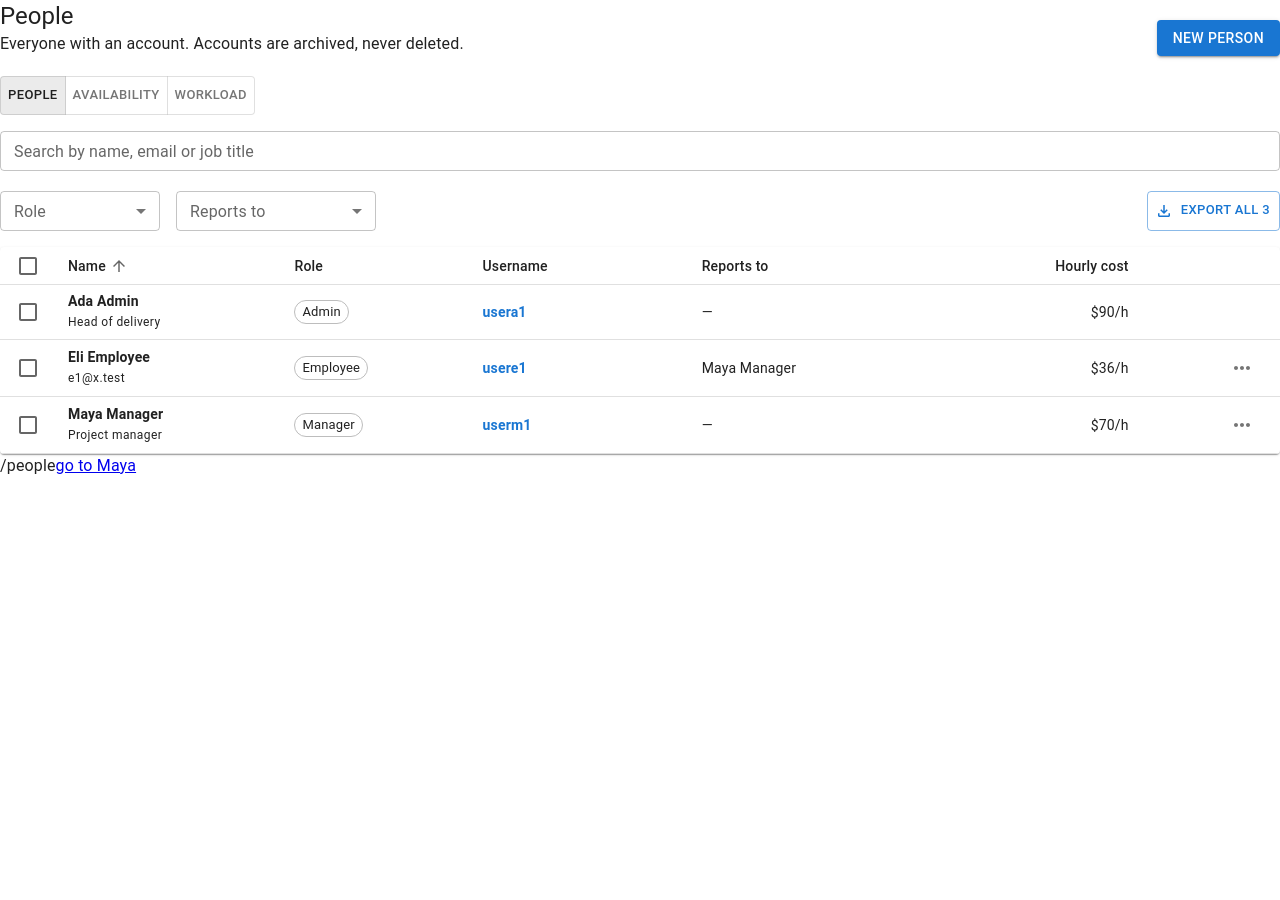
Test: PeoplePage as an admin › New person › needs a name and an email, and an employee also needs a manager
Expected: the text "Eli Employee" is shown, [68, 349, 150, 365]
Click the button "New person". click: (1218, 38)
box: [1157, 20, 1279, 56]
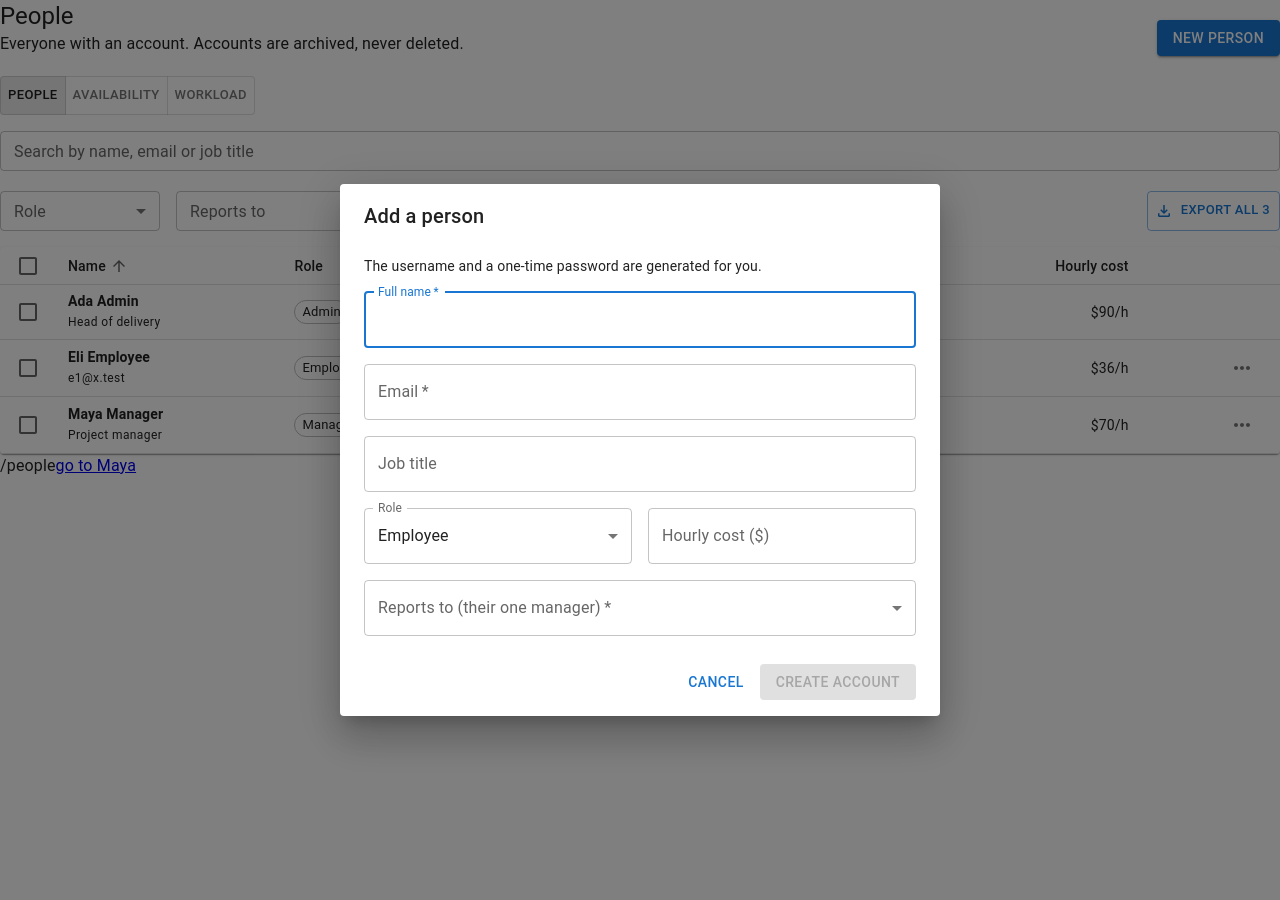
Expected: the button "Create account" is disabled, [760, 664, 916, 700]
Type "Nia New" into the field labelled "Full name *". click: (640, 320)
box: [364, 292, 916, 348]
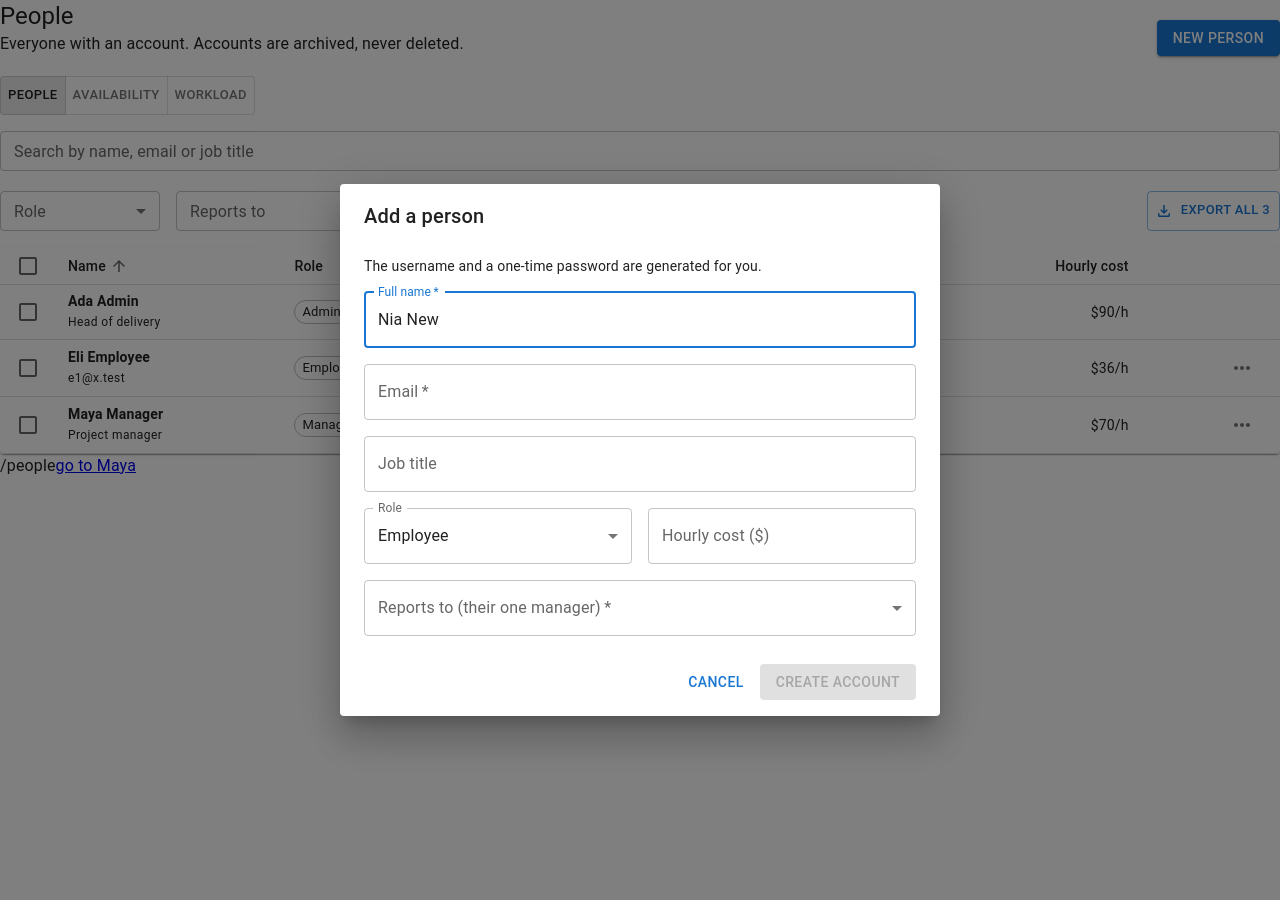
Expected: the button "Create account" is disabled, [760, 664, 916, 700]
Type "nia@x.test" into the field labelled "Email *". click: (640, 392)
box: [364, 364, 916, 420]
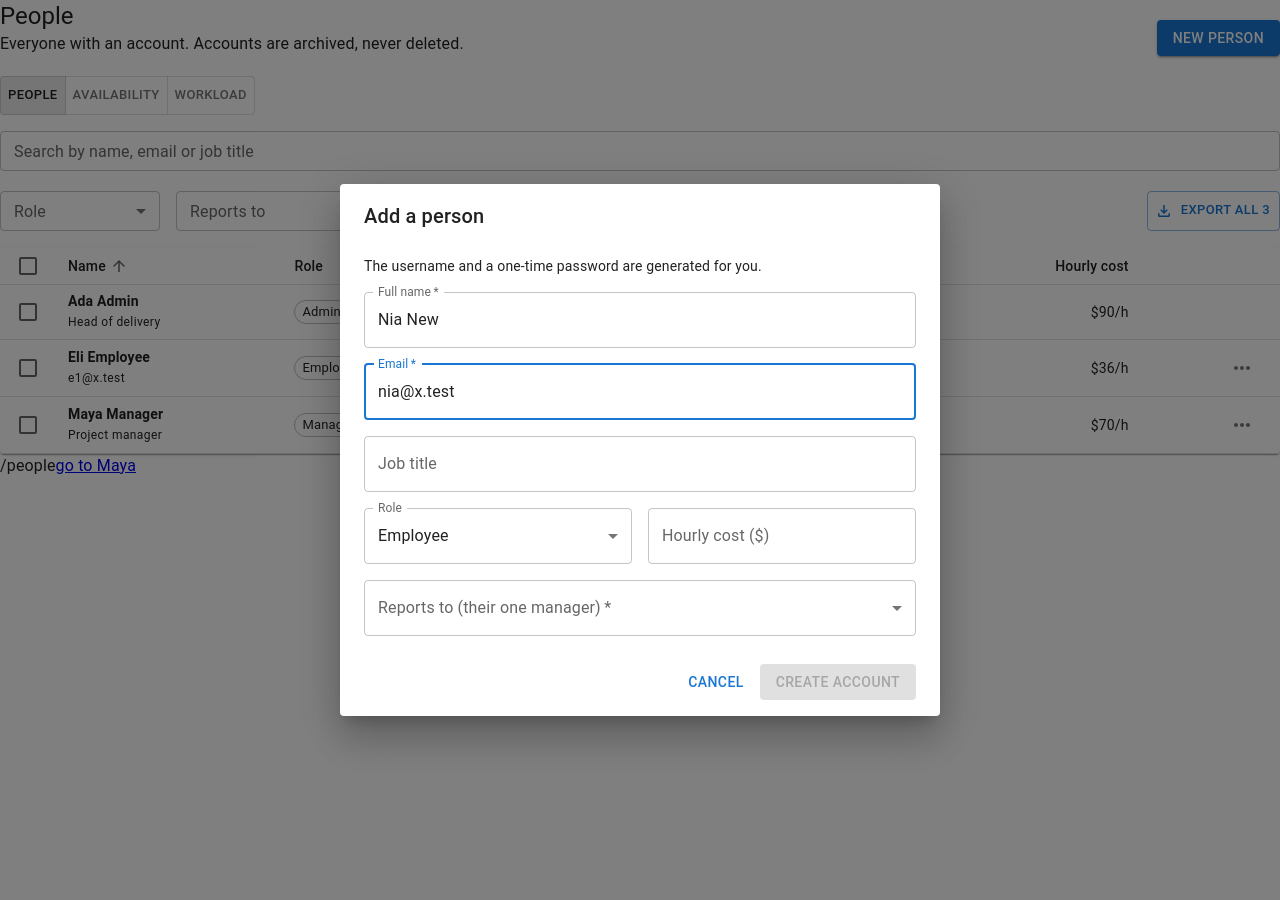
Expected: the button "Create account" is disabled, [760, 664, 916, 700]
Click the dropdown named "Reports to". click: (640, 608)
box: [364, 580, 916, 636]
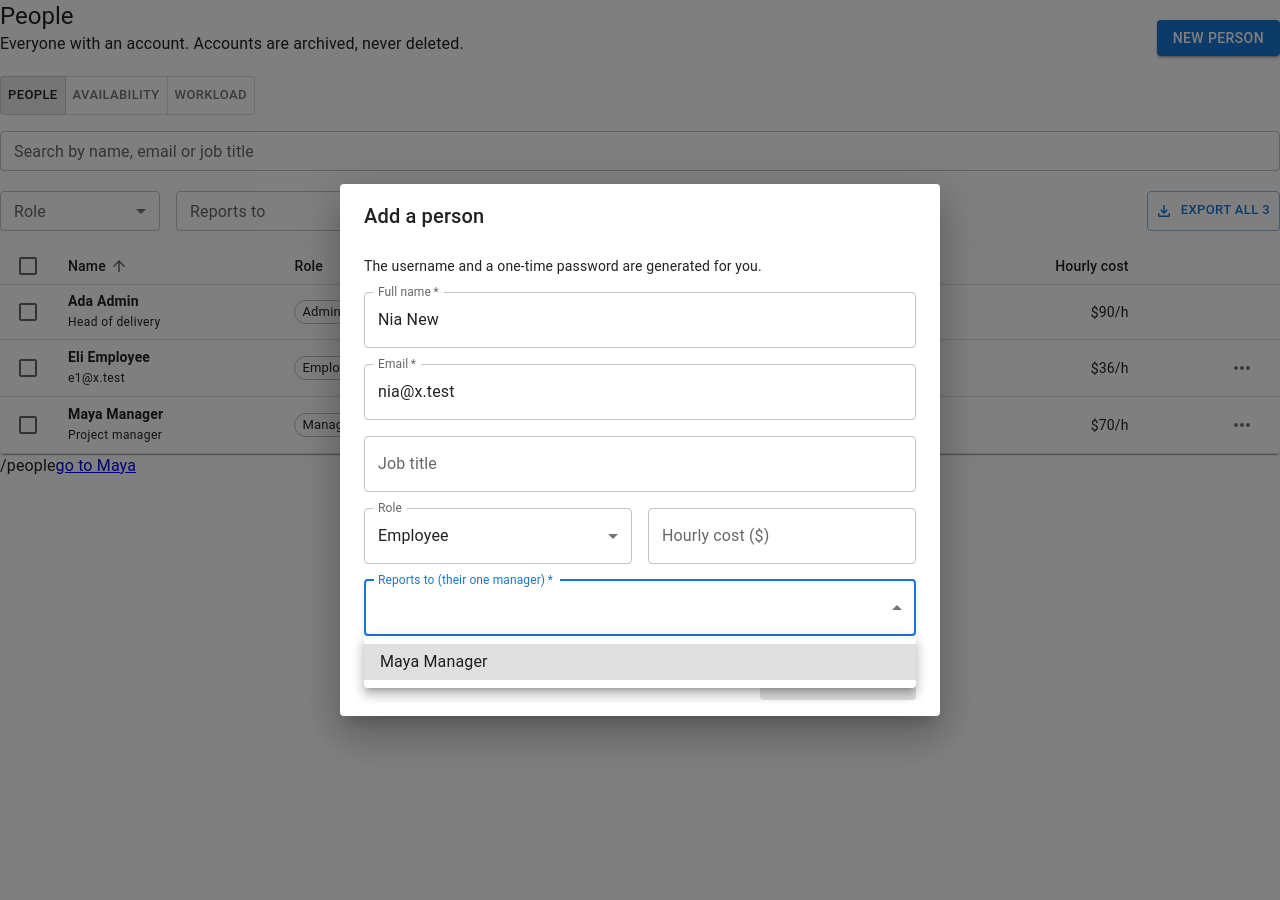
Click the option "Maya Manager". click: (434, 662)
box: [364, 644, 916, 680]
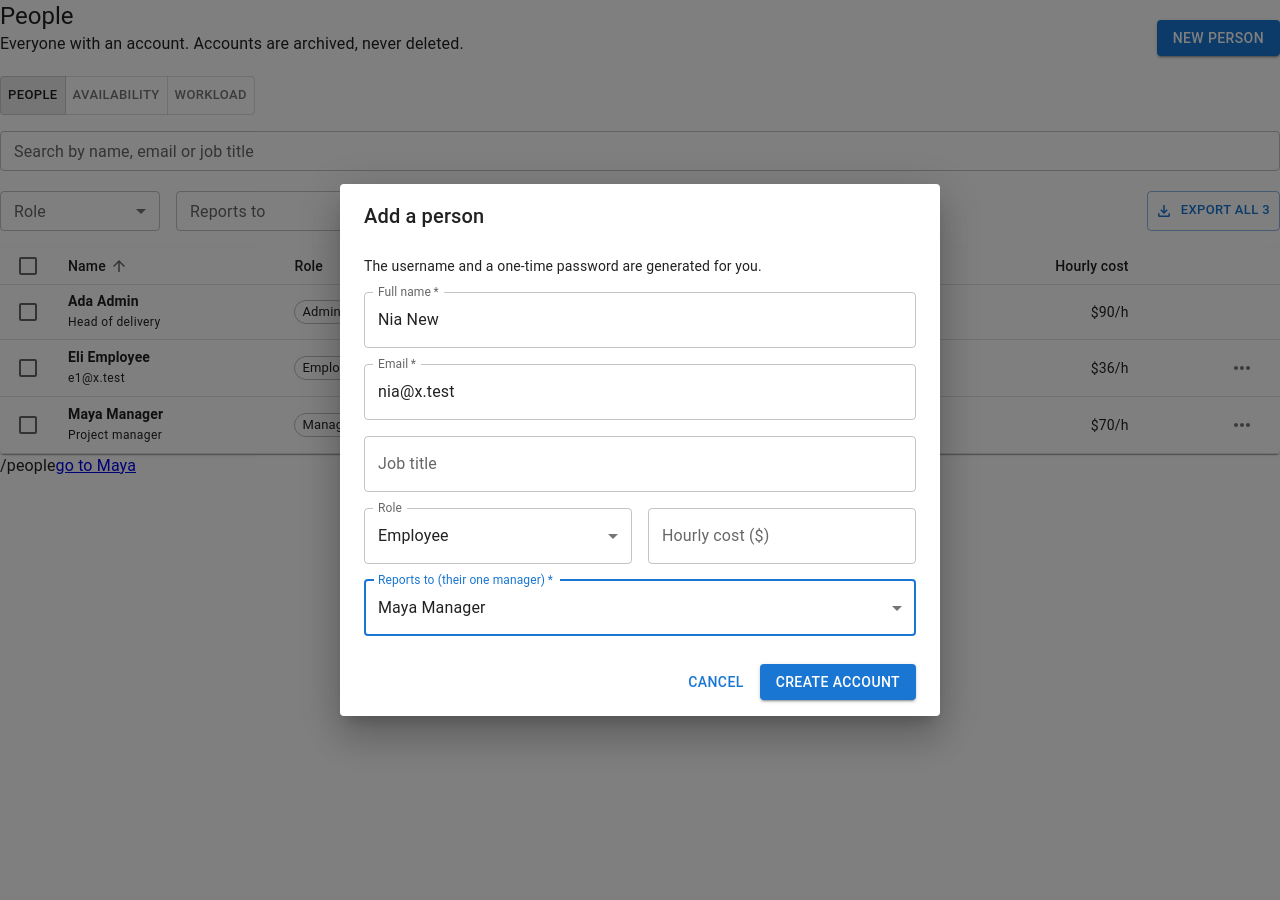
Expected: the button "Create account" is enabled, [760, 664, 916, 700]
